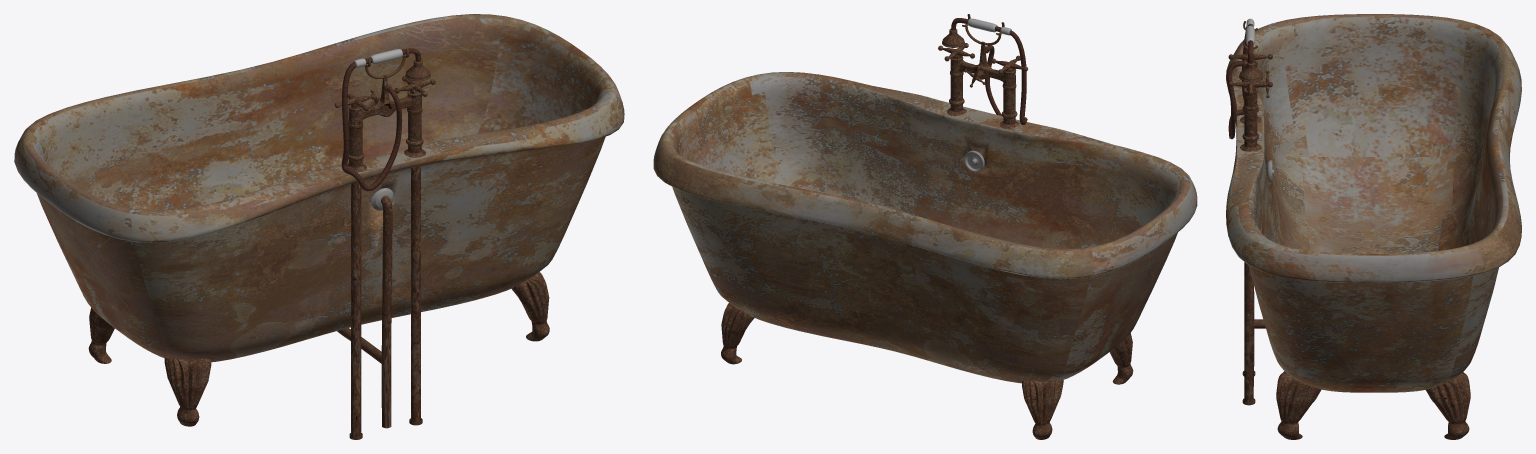
Rendered from bath.glb.
3 views of the same model, side by side, from view 1: azimuth 30°, elevation 25°; view 2: azimuth 150°, elevation 25°; view 3: azimuth 270°, elevation 25° (orthographic). The views are drawn at different scales.
Parts seen in each view (by area): view 1: Bath, Shower, Pipe3, Pipe2, Pipe1, Leg2, ShoweLenght, Leg3, Leg1; view 2: Bath, Shower, Leg1, Leg4, ShoweLenght, Leg2; view 3: Bath, Leg3, Leg4, Shower, Pipe2, ShoweLenght, ShowerHead.
Boxes of the visible parts, x1=… form: Bath: x1=14, y1=14, x2=624, y2=362; Shower: x1=334, y1=48, x2=435, y2=172; Pipe3: x1=349, y1=181, x2=362, y2=439; Pipe2: x1=409, y1=166, x2=422, y2=425; Pipe1: x1=381, y1=195, x2=392, y2=428; Leg2: x1=164, y1=357, x2=211, y2=426; ShoweLenght: x1=341, y1=48, x2=421, y2=191; Leg3: x1=511, y1=272, x2=549, y2=341; Leg1: x1=88, y1=307, x2=114, y2=363; Bath: x1=653, y1=72, x2=1197, y2=383; Shower: x1=938, y1=14, x2=1027, y2=128; Leg1: x1=1022, y1=379, x2=1063, y2=439; Leg4: x1=721, y1=303, x2=754, y2=364; ShoweLenght: x1=951, y1=18, x2=1027, y2=124; Leg2: x1=1109, y1=333, x2=1133, y2=384; Bath: x1=1226, y1=14, x2=1521, y2=392; Leg3: x1=1276, y1=371, x2=1321, y2=439; Leg4: x1=1426, y1=372, x2=1470, y2=439; Shower: x1=1228, y1=21, x2=1272, y2=151; Pipe2: x1=1242, y1=262, x2=1255, y2=405; ShoweLenght: x1=1227, y1=24, x2=1253, y2=139; ShowerHead: x1=1239, y1=61, x2=1263, y2=82.
Size of the model in its own units: 390 by 263 by 197.
Materials: 12 (11 with a texture image).
